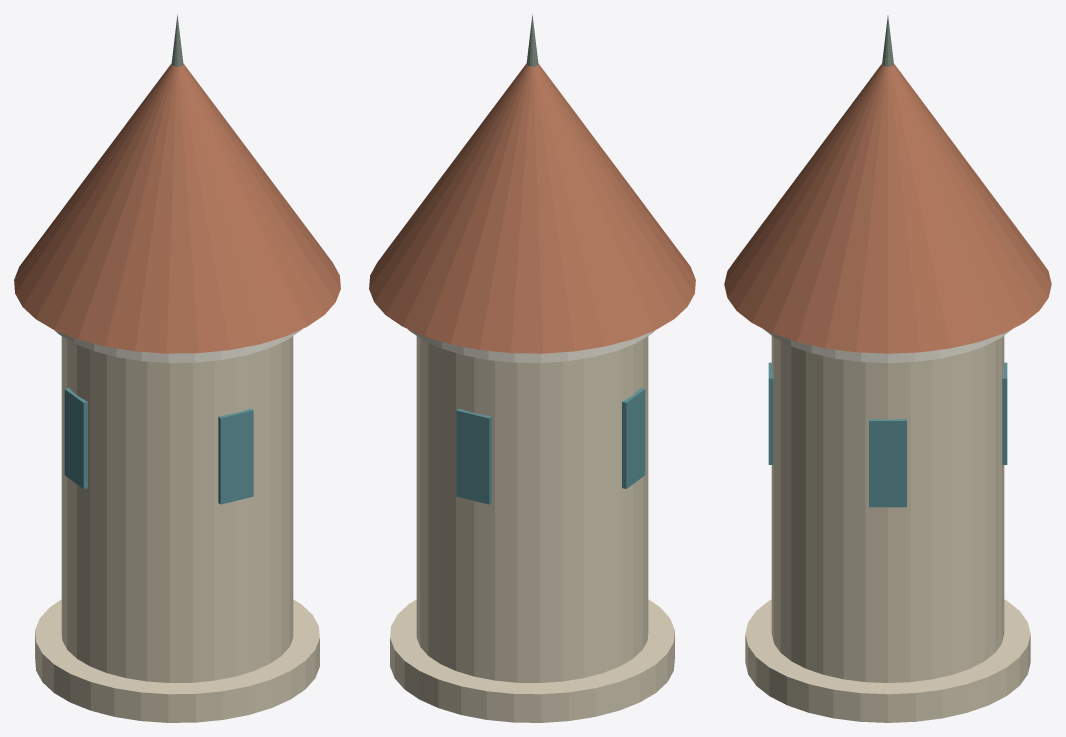
The model's file is castle_turret.glb.
3 renders of one model, left to right at view 1: azimuth 30°, elevation 25°; view 2: azimuth 150°, elevation 25°; view 3: azimuth 270°, elevation 25°, orthographic.
Visible parts, largest first — view 1: Turret drum, Conical slate roof, Turret base, Turret window.002, Turret window.003, Turret cornice; view 2: Turret drum, Conical slate roof, Turret base, Turret window, Turret window.003, Turret cornice; view 3: Turret drum, Conical slate roof, Turret base, Turret window.001, Turret cornice, Turret window, Turret window.002.
Part boxes in pixels (<box>): Turret drum: <box>61,336,293,682</box>; Conical slate roof: <box>14,63,340,353</box>; Turret base: <box>35,599,319,722</box>; Turret window.002: <box>218,408,253,504</box>; Turret window.003: <box>64,388,87,488</box>; Turret cornice: <box>55,329,301,362</box>; Turret drum: <box>416,336,648,682</box>; Conical slate roof: <box>369,63,695,353</box>; Turret base: <box>390,599,674,722</box>; Turret window: <box>456,408,491,504</box>; Turret window.003: <box>622,388,645,488</box>; Turret cornice: <box>408,329,654,362</box>; Turret drum: <box>771,336,1004,682</box>; Conical slate roof: <box>724,64,1051,353</box>; Turret base: <box>745,599,1030,722</box>; Turret window.001: <box>869,419,906,507</box>; Turret cornice: <box>763,329,1012,362</box>; Turret window: <box>1002,362,1007,464</box>; Turret window.002: <box>768,362,773,464</box>.
Size of the model in its own units: 3.1 by 6.77 by 3.1.
